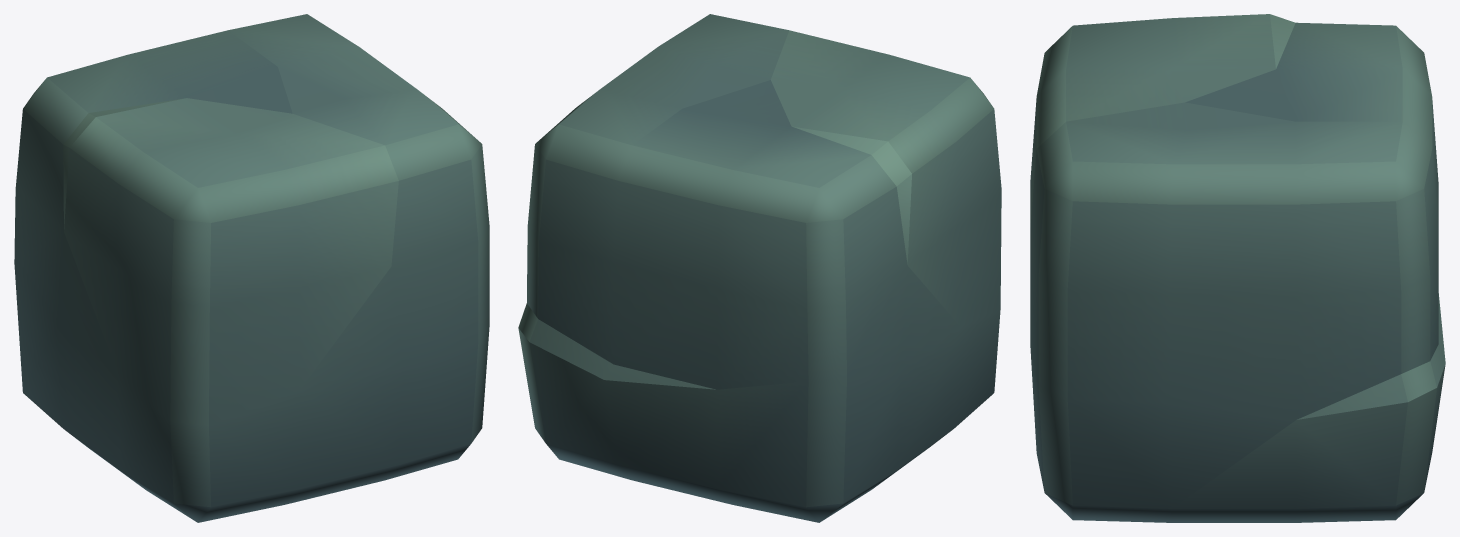
The model's file is cube_04_shade_2_LOD_setup.fbx.
3 views of the same model, side by side, from view 1: azimuth 30°, elevation 25°; view 2: azimuth 150°, elevation 25°; view 3: azimuth 270°, elevation 25° (orthographic). The views are drawn at different scales.
Parts seen in each view (by area): view 1: cube_04_shade_2_LOD0; view 2: cube_04_shade_2_LOD0; view 3: cube_04_shade_2_LOD0.
Boxes of the visible parts, <box> form: cube_04_shade_2_LOD0: <box>14,14,489,522</box>; cube_04_shade_2_LOD0: <box>518,14,1001,522</box>; cube_04_shade_2_LOD0: <box>1030,14,1445,522</box>.
Size of what is drawn, in the model's own units: 112 by 110 by 114.
